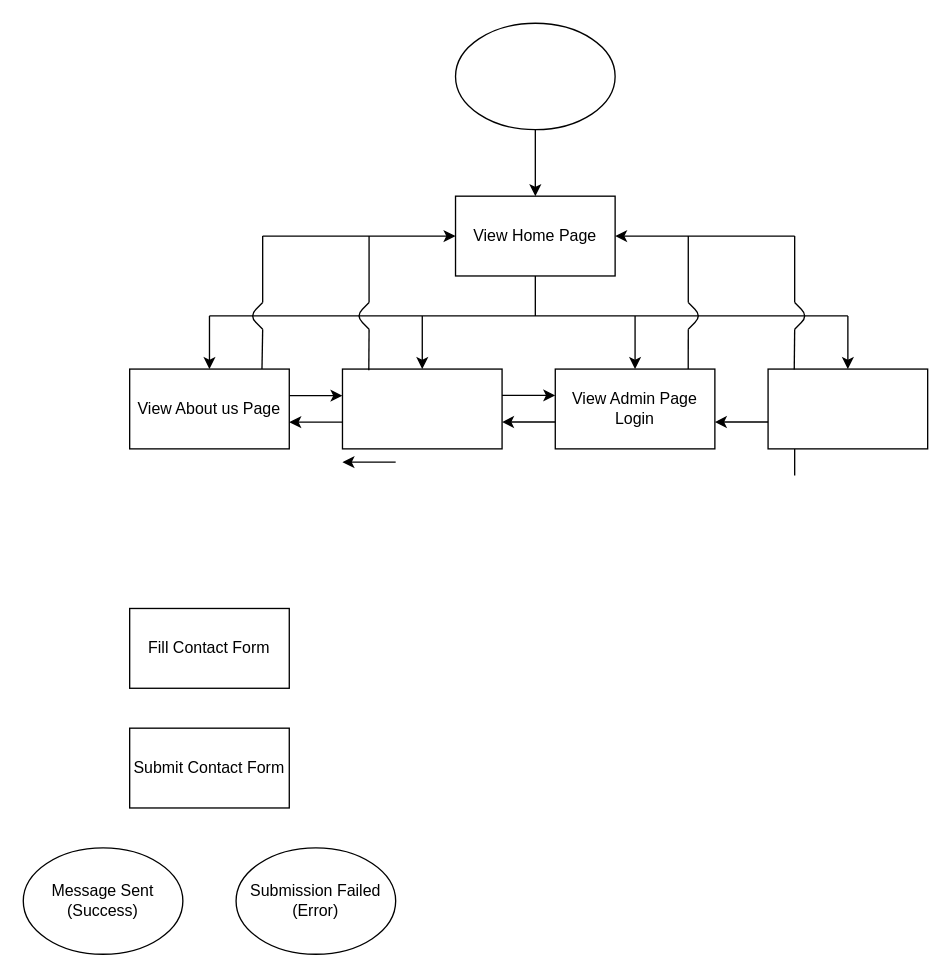
Some shapes in this 951 by 978 pixel diagram are drawn without their labels. The shapes that lost their labels are listed below. From the top down, each one's centre as x and y in pixels, then its label:
At (534,76): "Start".
At (421,408): "View Contact usPage".
At (847,408): "View Map Page".
